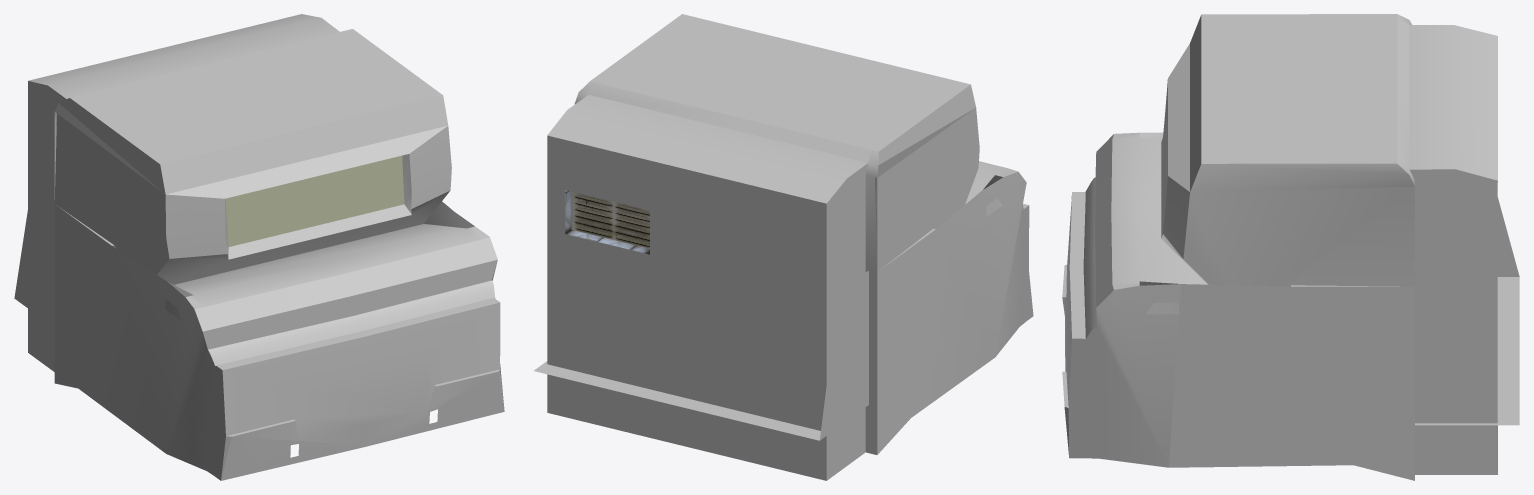
Rendered from Cab of the car.fbx.
The picture shows the model from 3 angles, left to right: view 1: azimuth 30°, elevation 25°; view 2: azimuth 150°, elevation 25°; view 3: azimuth 270°, elevation 25°; orthographic projection. The views are drawn at different scales.
Visible parts, largest first — view 1: Car.005; view 2: Car.005; view 3: Car.005.
Boxes of the visible parts, x1,y1,x2,y2 form: Car.005: (14,14,504,480); Car.005: (534,14,1033,480); Car.005: (1062,14,1519,480).
Bounding box in the file's own units: 263 × 238 × 314.
